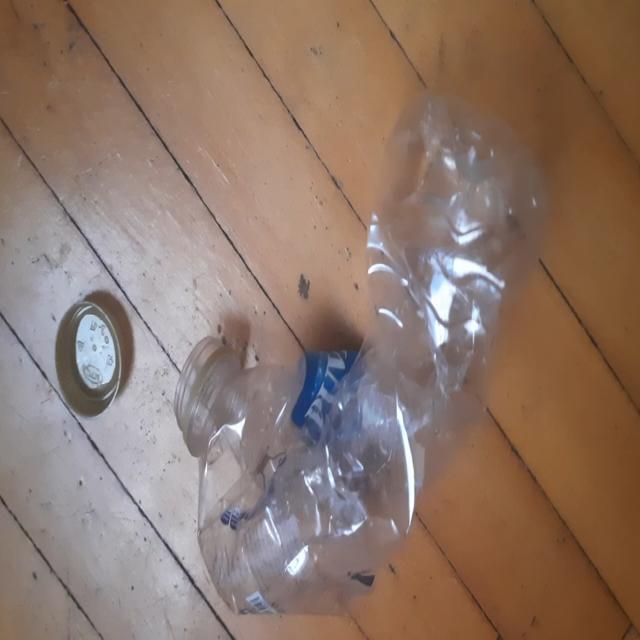Plastic: (175, 87, 547, 616)
